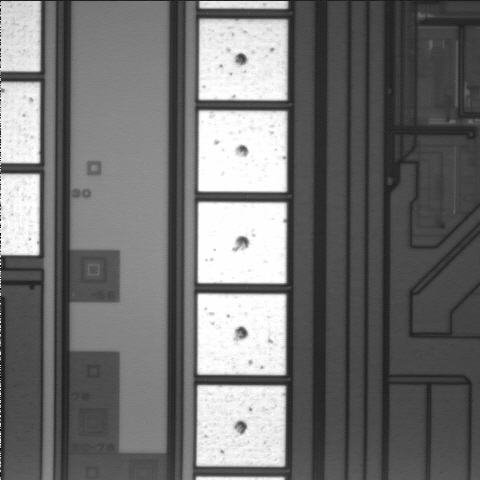pad: (196, 385, 286, 467), (198, 202, 287, 284), (198, 111, 287, 192), (197, 294, 286, 375), (199, 19, 287, 100)
